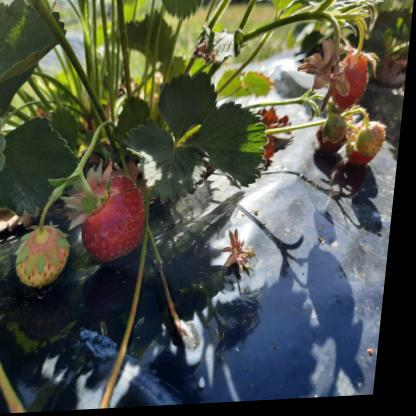ripe: (84, 178, 155, 258), (333, 60, 377, 111)
unripe: (20, 220, 77, 290)
